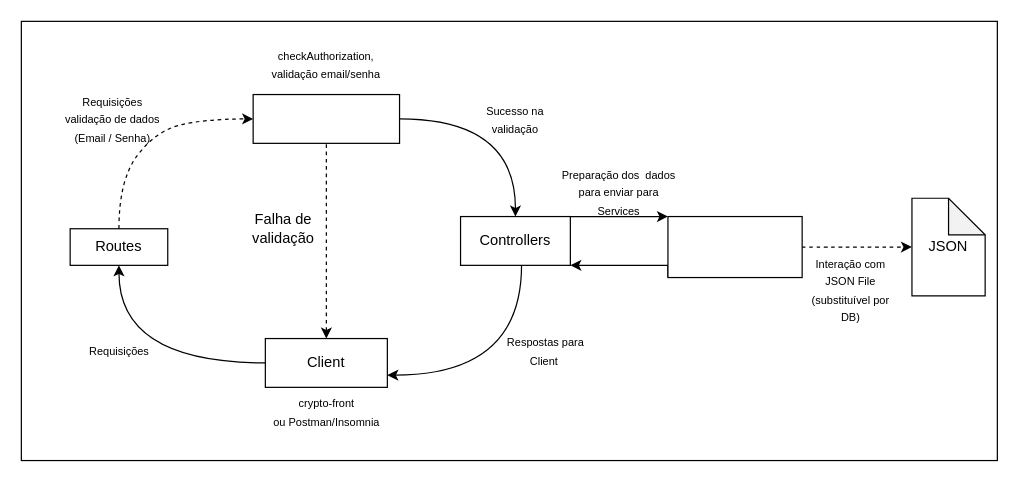
Some shapes in this 1019 by 482 pixel diagram are drawn without their labels. The box of each missing label's shape, as (x1, y1, x2, y2) in pixels:
Middlewares: (252, 93, 400, 143)
Services (Lógica de Negócio): (667, 215, 802, 278)
